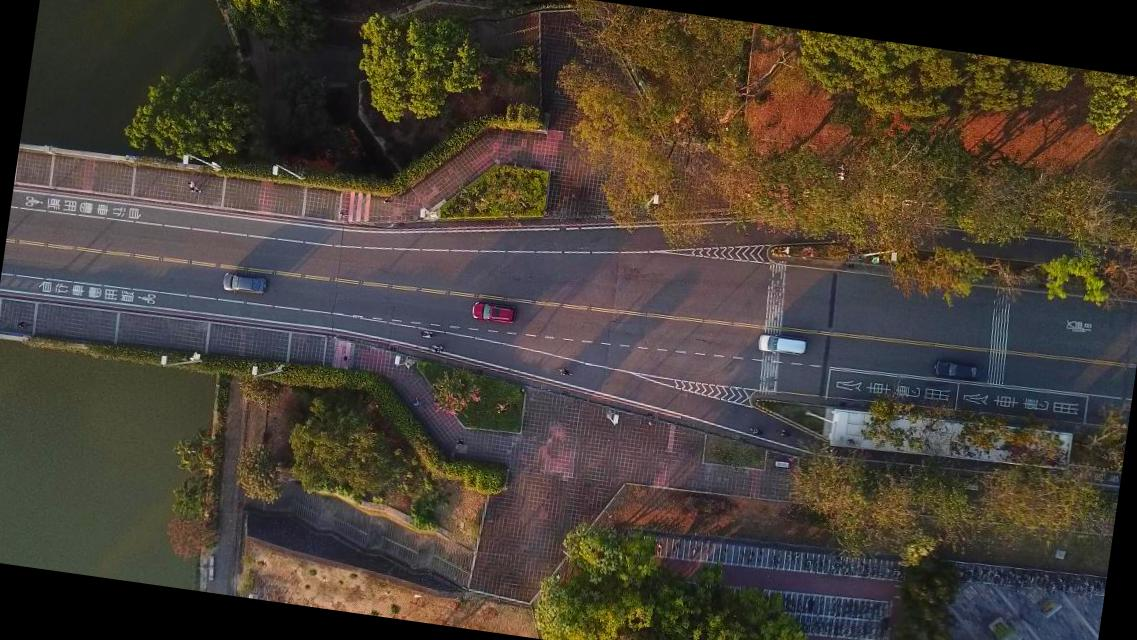vehicle: (756, 332, 808, 358), (932, 360, 986, 384), (470, 300, 518, 326), (222, 272, 268, 296)
